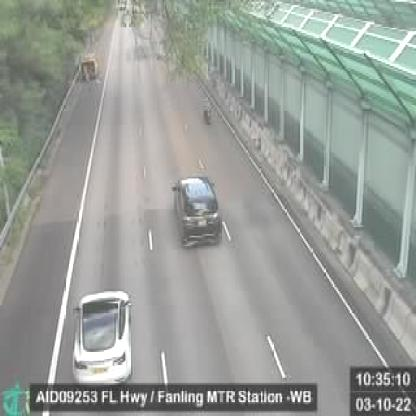Car: (73, 290, 129, 383), (170, 175, 221, 244)
